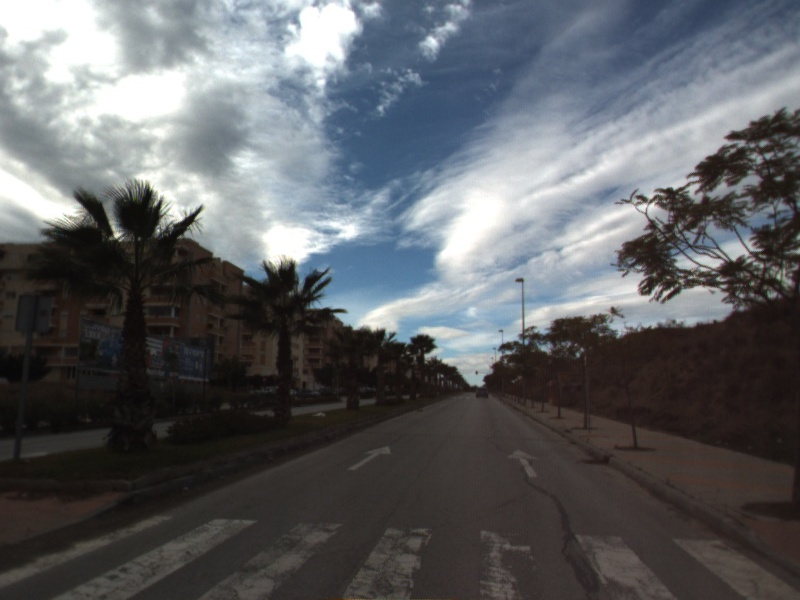STRAIGHT: (346, 443, 393, 472), (505, 447, 541, 480)
